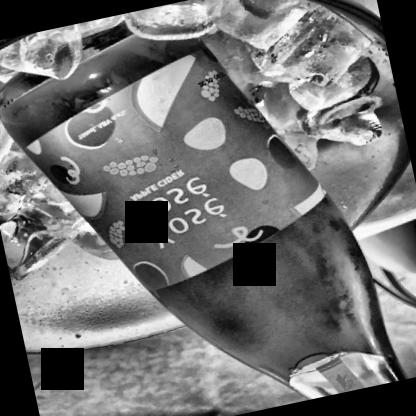yoserose: (5, 28, 342, 322)
